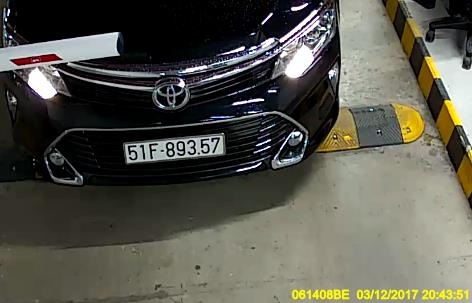plate: (116, 128, 237, 168)
